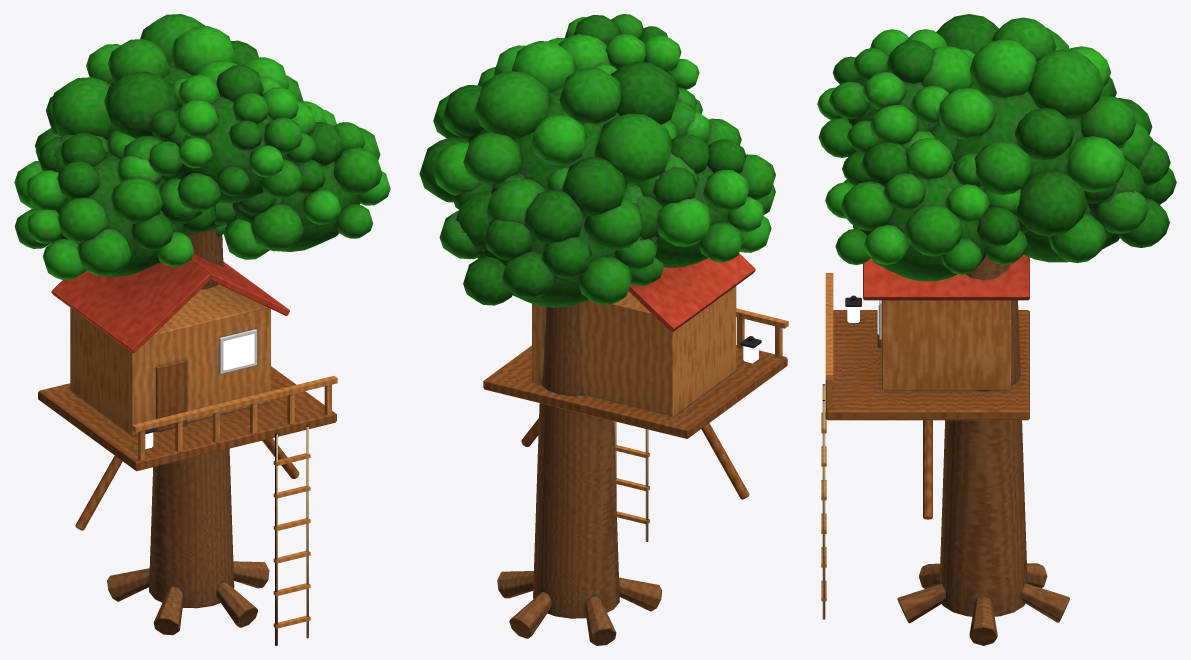
Rendered from treehouse.glb.
3 renders of one model, left to right at view 1: azimuth 30°, elevation 25°; view 2: azimuth 150°, elevation 25°; view 3: azimuth 270°, elevation 25°, orthographic. The views are drawn at different scales.
Visible parts, largest first — view 1: treehouse; view 2: treehouse; view 3: treehouse.
Part boxes in pixels (box(x1,y1,x2,y2)): treehouse: box(14, 14, 390, 645); treehouse: box(419, 14, 788, 645); treehouse: box(817, 14, 1176, 645).
Bounding box in the file's own units: 2.16 × 3.46 × 1.94.
1 material, 1 textured.
